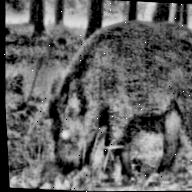boar: (27, 8, 192, 184)
